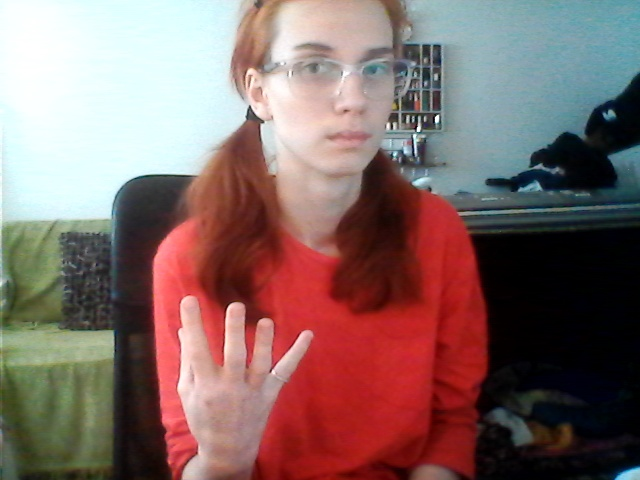kedy: (135, 297, 317, 444)
